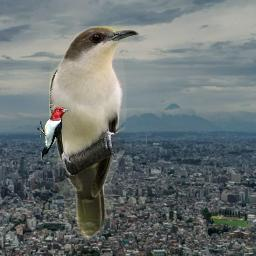Cuckoo: (49, 26, 140, 240)
Woodpecker: (36, 107, 70, 161)
